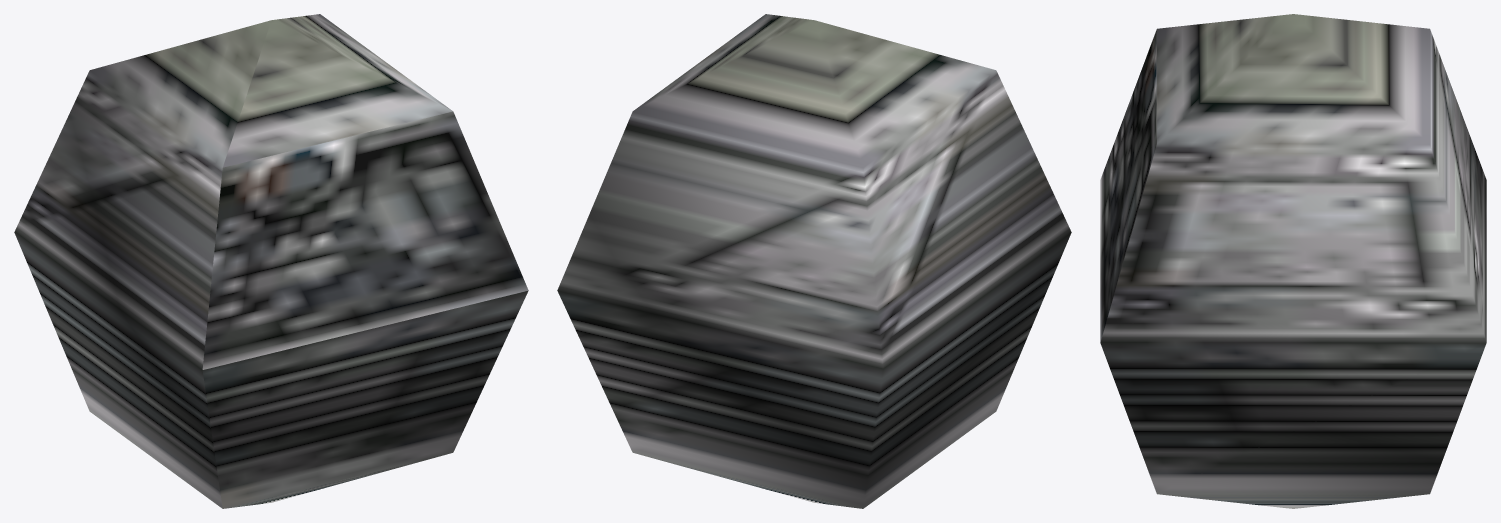
The model's file is eqp_survey_ore_l2.fbx.
3 views of the same model, side by side, from view 1: azimuth 30°, elevation 25°; view 2: azimuth 150°, elevation 25°; view 3: azimuth 270°, elevation 25° (orthographic). The views are drawn at different scales.
Parts seen in each view (by area): view 1: mesh_node; view 2: mesh_node; view 3: mesh_node.
Boxes of the visible parts, x1=… form: mesh_node: x1=14, y1=14, x2=528, y2=508; mesh_node: x1=557, y1=14, x2=1071, y2=508; mesh_node: x1=1100, y1=14, x2=1486, y2=508.
Bounding box in the file's own units: 0.1271 × 0.1797 × 0.1271.
